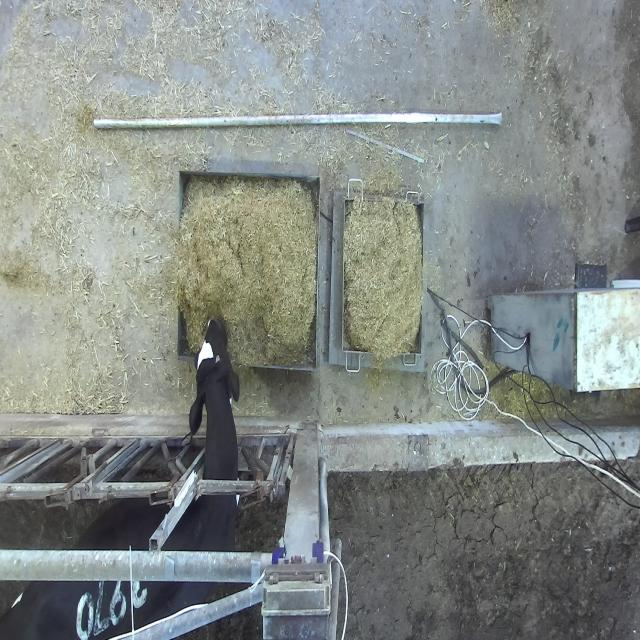cow: (189, 315, 241, 433)
